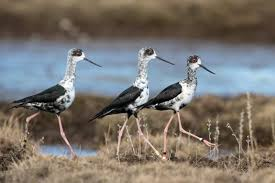Walking: (0, 34, 228, 171)
